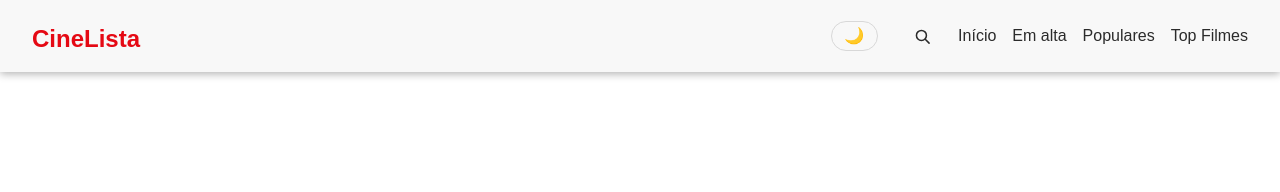
Test: Header › mostra sugestoes automaticamente enquanto o usuario digita
Click the button named "Abrir busca".
click(922, 36)  # box [902,16,942,56]
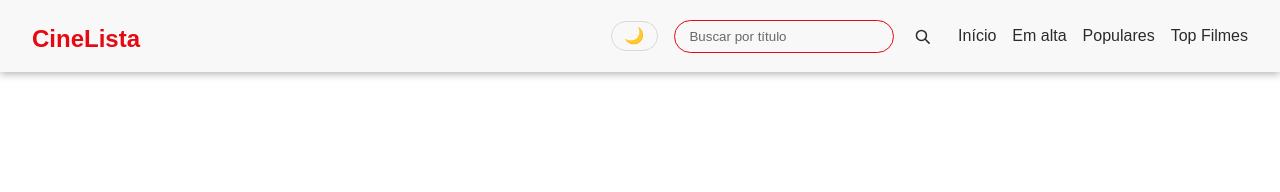
Type "Matrix" into the search field with placeholder "Buscar por título".
click(784, 36); type("Matrix")  # box [674,20,894,52]
Wait 300 ms
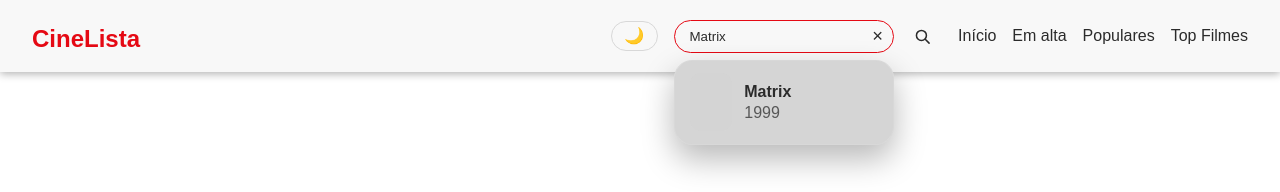
Expected: the text "Matrix" is shown, [744,83,791,100]
